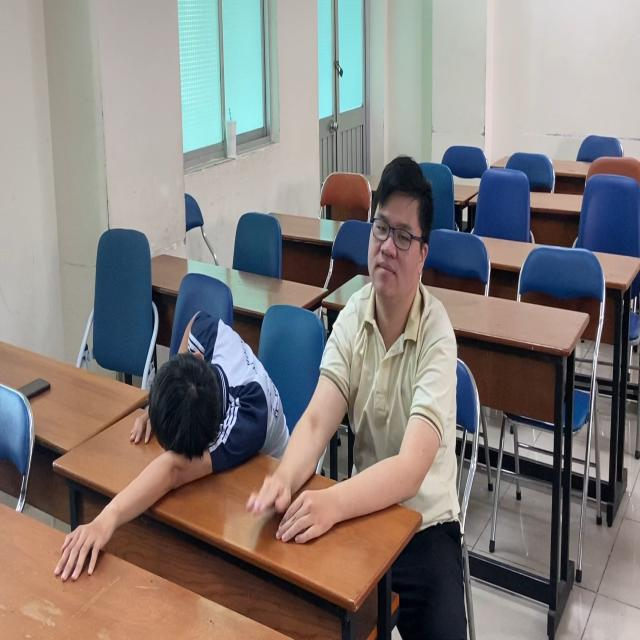sleep: (108, 302, 293, 499)
